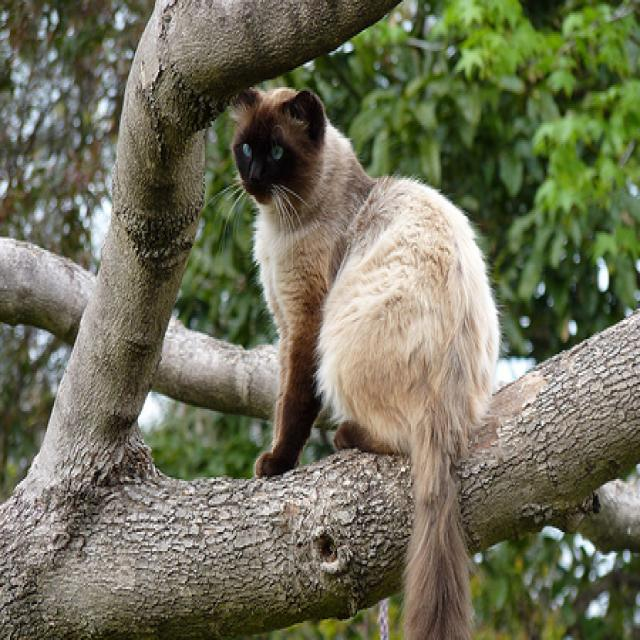Siamese: (225, 74, 506, 640)
